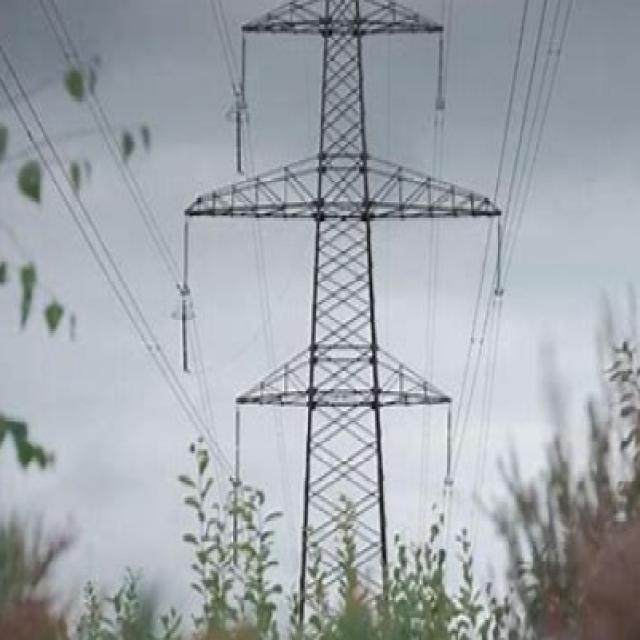utility poles: (200, 342, 469, 626)
